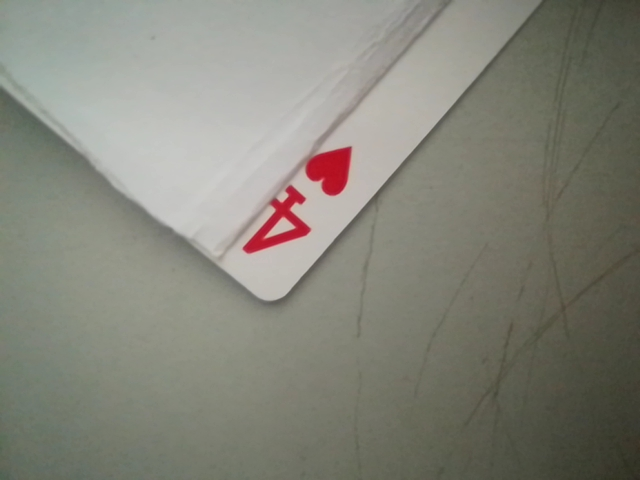hx 4: (228, 144, 362, 274)
